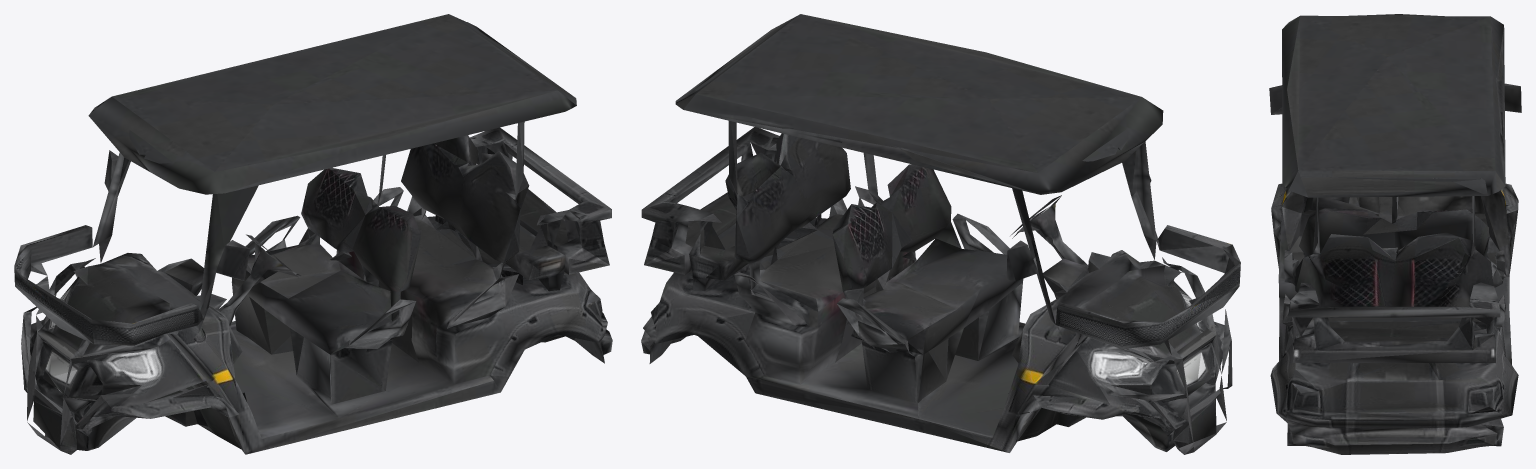
File: sovthog.glb
3 renders of one model, left to right at view 1: azimuth 30°, elevation 25°; view 2: azimuth 150°, elevation 25°; view 3: azimuth 270°, elevation 25°, orthographic. The views are drawn at different scales.
Parts seen in each view (by area): view 1: Mesh_0.001; view 2: Mesh_0.001; view 3: Mesh_0.001.
Part boxes in pixels (x1,y1,x2,y2): Mesh_0.001: (14,14,612,454); Mesh_0.001: (641,14,1240,454); Mesh_0.001: (1269,14,1521,454).
Bounding box in the file's own units: 0.6008 × 0.32 × 0.2721.
Materials: 1 (1 with a texture image).
